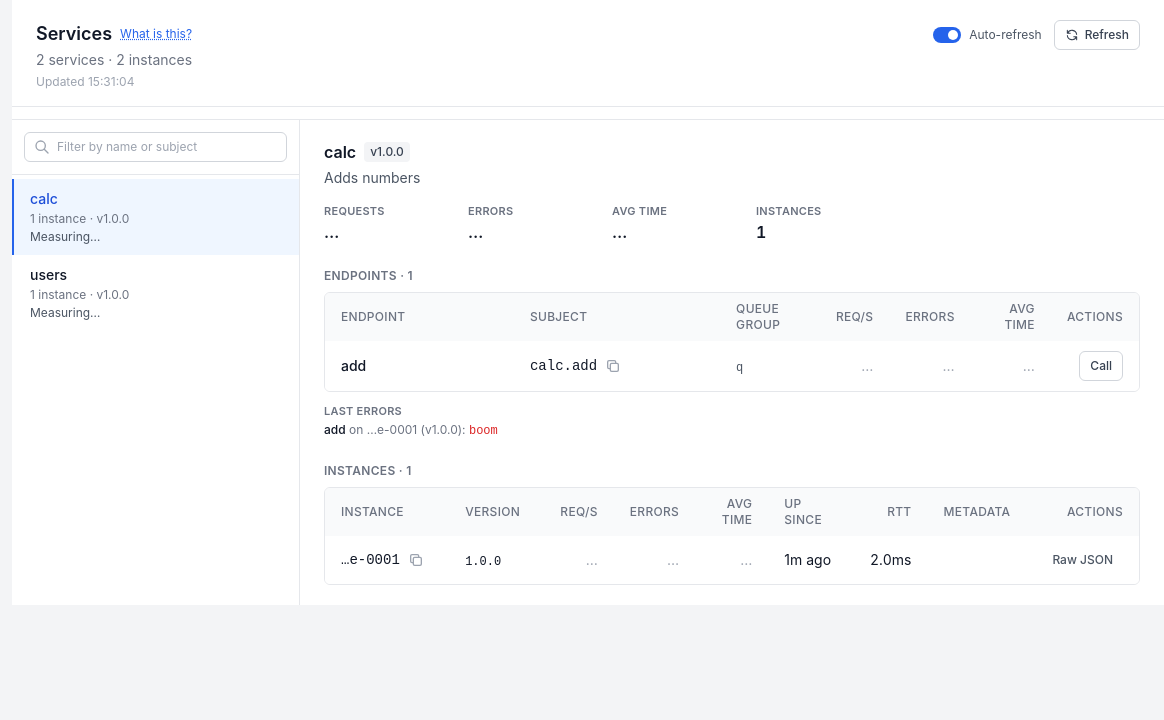
Test: ServicesPage › filters the list without changing the open service
Expected: the element with test id "service-detail" is shown, [300,120,1163,605]
Step 1. Type "users.get" into the field with placeholder "Filter by name or subject" → (156, 147), box [24,132,287,162]
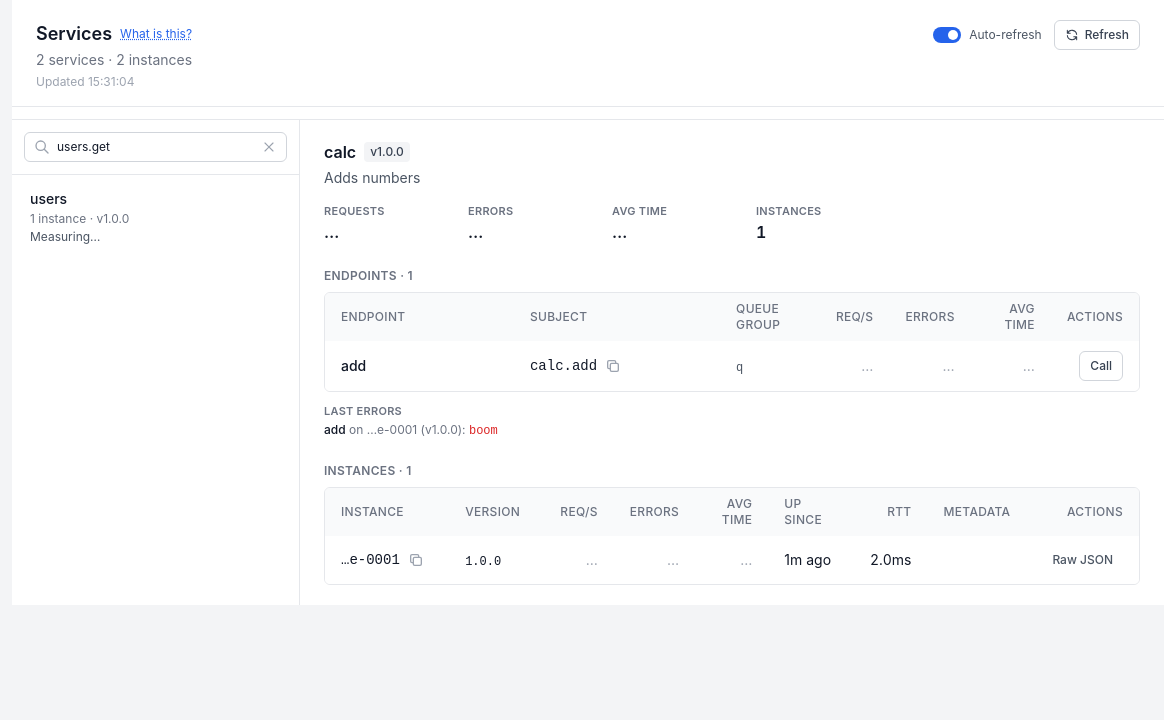
Expected: the heading "calc" is shown, [324,140,356,164]
Step 2. Click the button "users 1 instance · v1.0.0 Measuring…" → (49, 198), box [12,179,299,255]
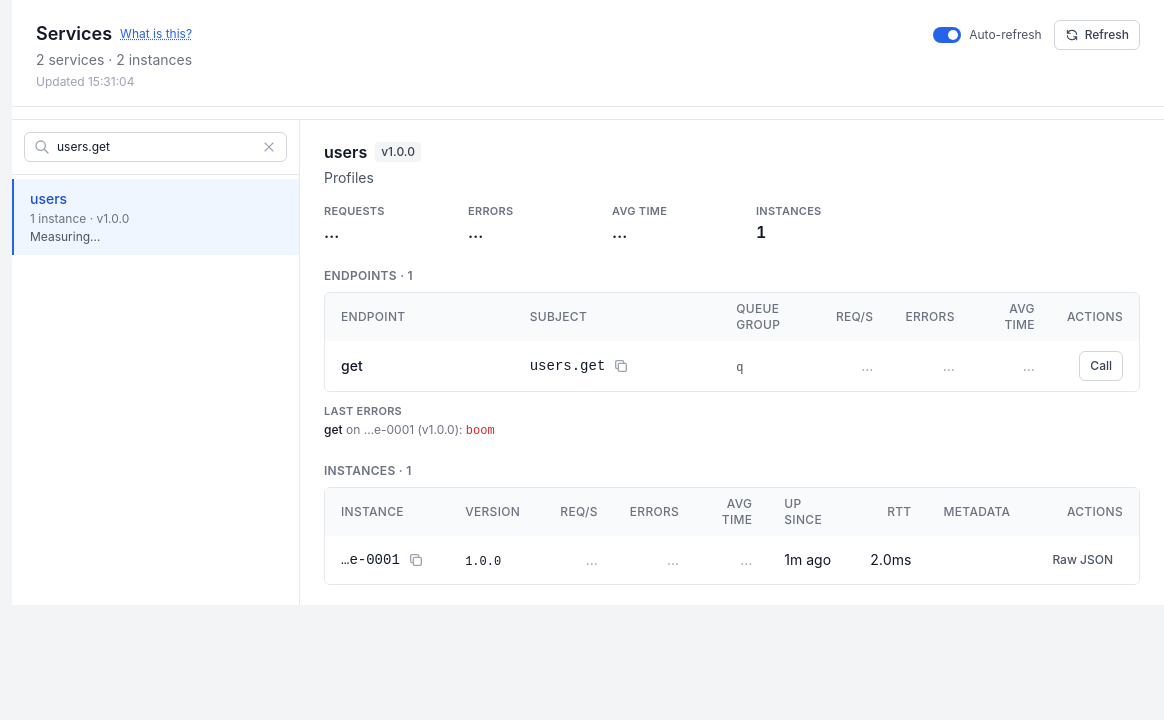
Expected: the heading "users" is shown, [324,140,367,164]
